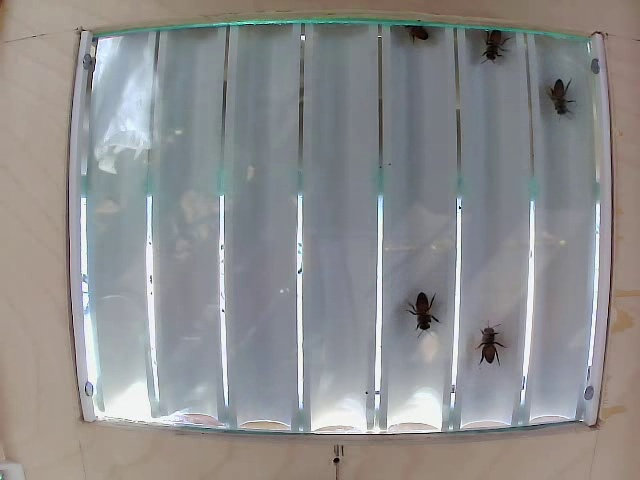bee: (404, 287, 443, 345), (469, 317, 504, 367), (548, 75, 576, 124), (483, 23, 506, 65)
